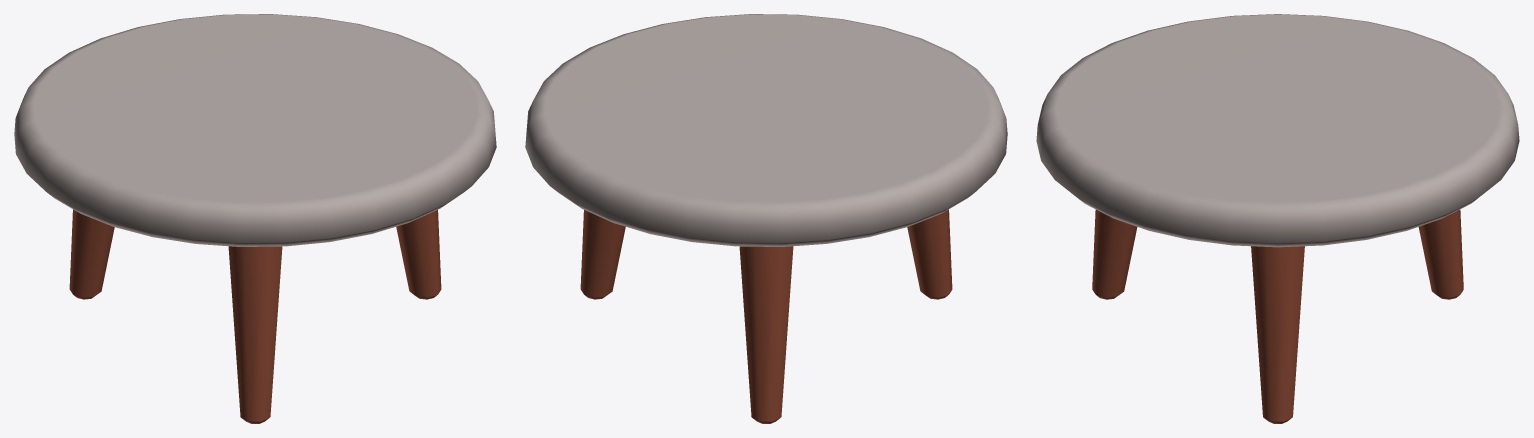
Rendered from Coffee_Table_03.glb.
3 views of the same model, side by side, from view 1: azimuth 30°, elevation 25°; view 2: azimuth 150°, elevation 25°; view 3: azimuth 270°, elevation 25° (orthographic).
Parts seen in each view (by area): view 1: Coffee_Table_03; view 2: Coffee_Table_03; view 3: Coffee_Table_03.
Part boxes in pixels (x1,y1,x2,y2): Coffee_Table_03: (14, 14, 496, 423); Coffee_Table_03: (525, 14, 1007, 423); Coffee_Table_03: (1036, 14, 1519, 423).
Size of the model in its own units: 0.8041 by 0.4234 by 0.8041.
1 material, 1 textured.
